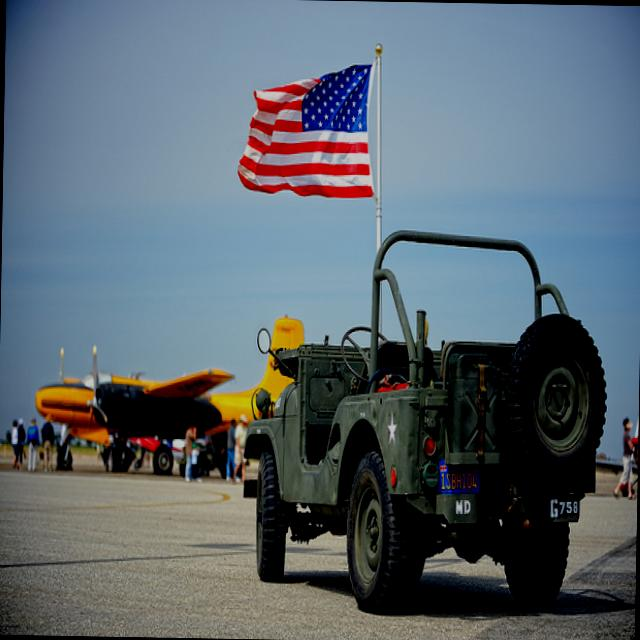Vehicle: (240, 229, 611, 611)
